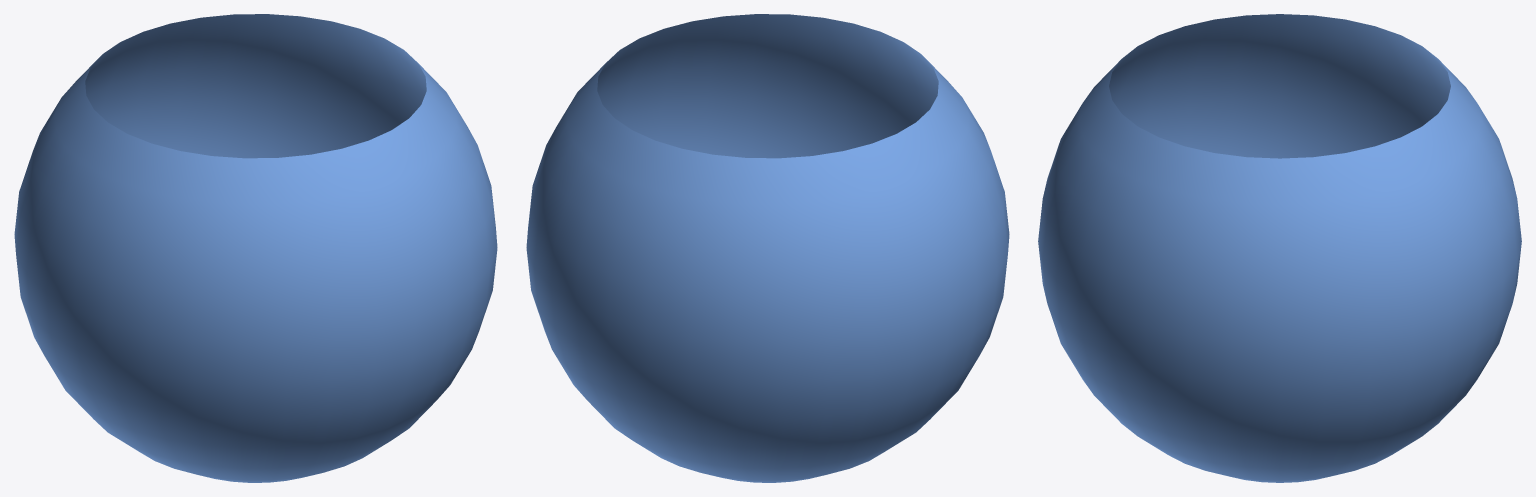
The model's file is giantbowl.gltf.
The picture shows the model from 3 angles, left to right: view 1: azimuth 30°, elevation 25°; view 2: azimuth 150°, elevation 25°; view 3: azimuth 270°, elevation 25°; orthographic projection.
Visible parts, largest first — view 1: Sphere; view 2: Sphere; view 3: Sphere.
Part boxes in pixels (x1,y1,x2,y2): Sphere: (14, 14, 497, 482); Sphere: (526, 14, 1009, 482); Sphere: (1038, 14, 1521, 482).
Size of the model in its own units: 531 by 453 by 531.
